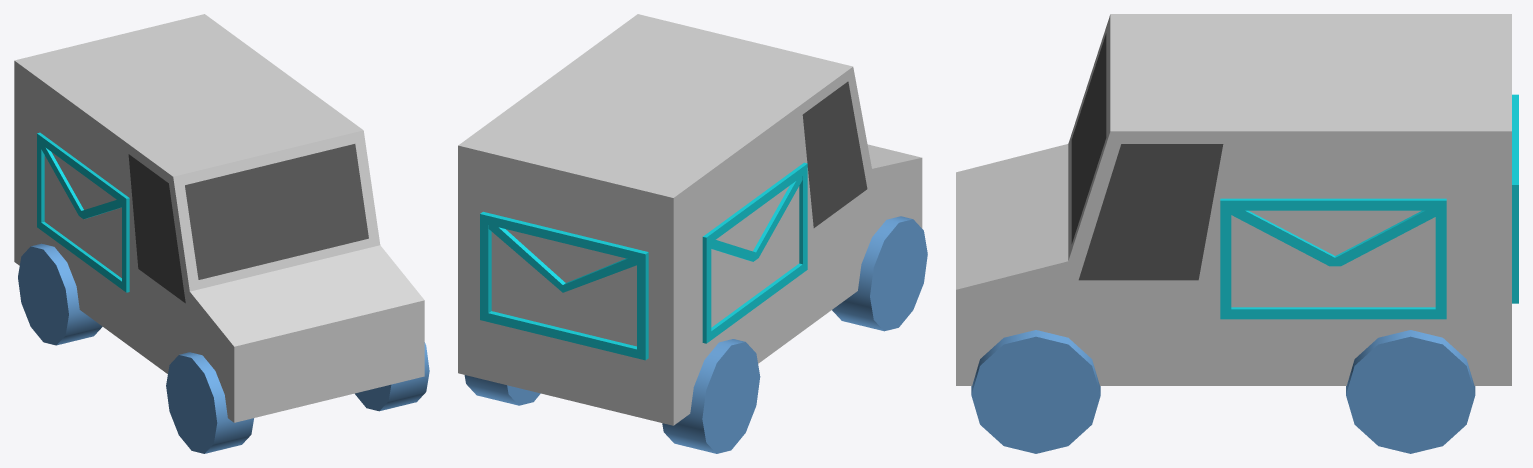
Rendered from mailTruck.fbx.
The picture shows the model from 3 angles, left to right: view 1: azimuth 30°, elevation 25°; view 2: azimuth 150°, elevation 25°; view 3: azimuth 270°, elevation 25°; orthographic projection. The views are drawn at different scales.
Parts seen in each view (by area): view 1: MailTruck; view 2: MailTruck; view 3: MailTruck.
Boxes of the visible parts, left/top/right/bottom form: MailTruck: left=14, top=14, right=429, bottom=453; MailTruck: left=458, top=14, right=927, bottom=453; MailTruck: left=956, top=14, right=1518, bottom=453.
Bounding box in the file's own units: 223 × 251 × 405.
